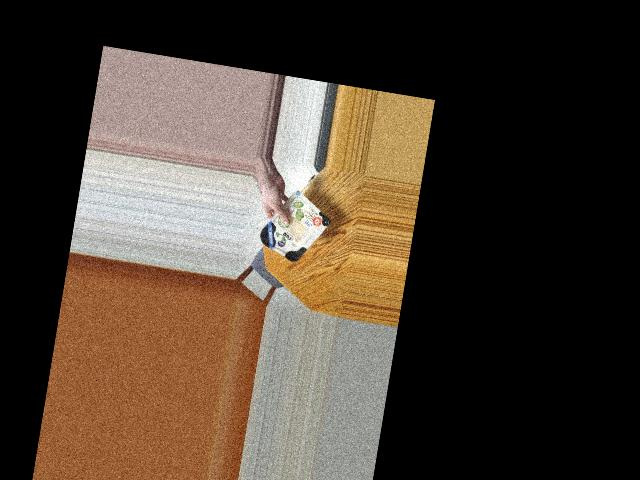cheese: (256, 194, 327, 270)
